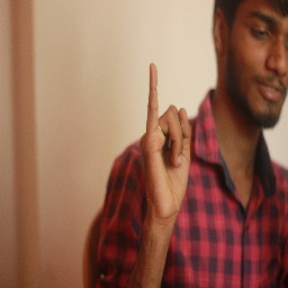I: (142, 61, 196, 212)
